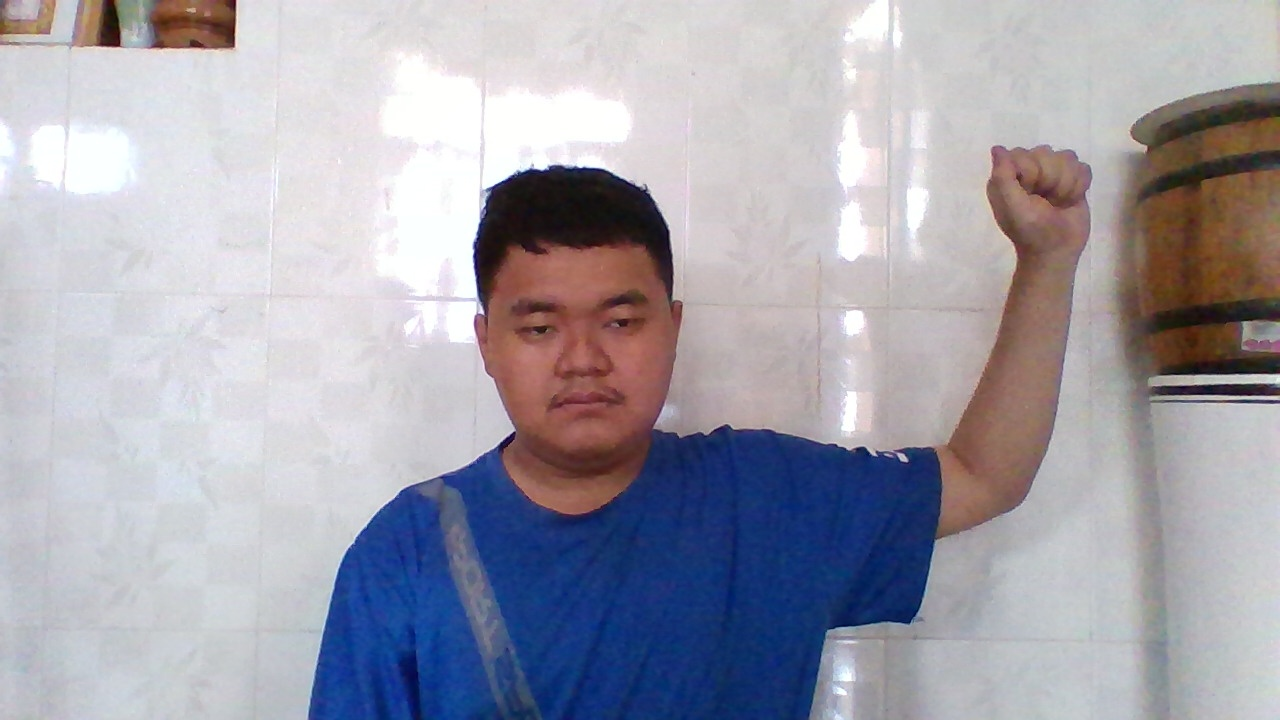A: (977, 134, 1102, 262)
